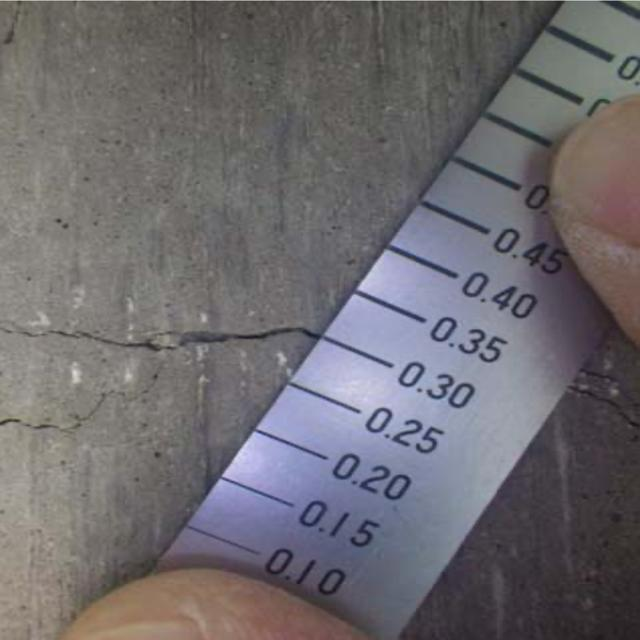crack: (0, 294, 327, 442), (548, 344, 638, 452)
